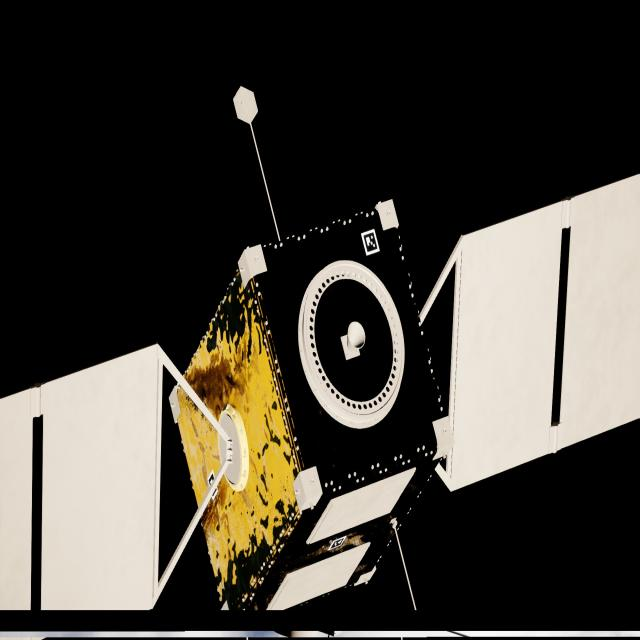medium_debris: (0, 173, 640, 613)
